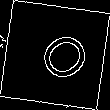O_SW: (22, 22, 88, 88)
